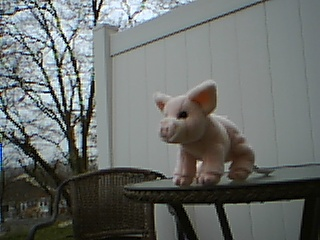piggy: (153, 79, 257, 187)
